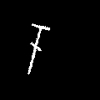double_crochet: (28, 24, 49, 73)
